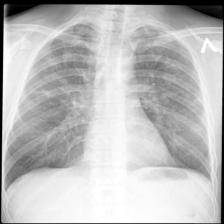tuberculosis: (3, 19, 216, 224)
